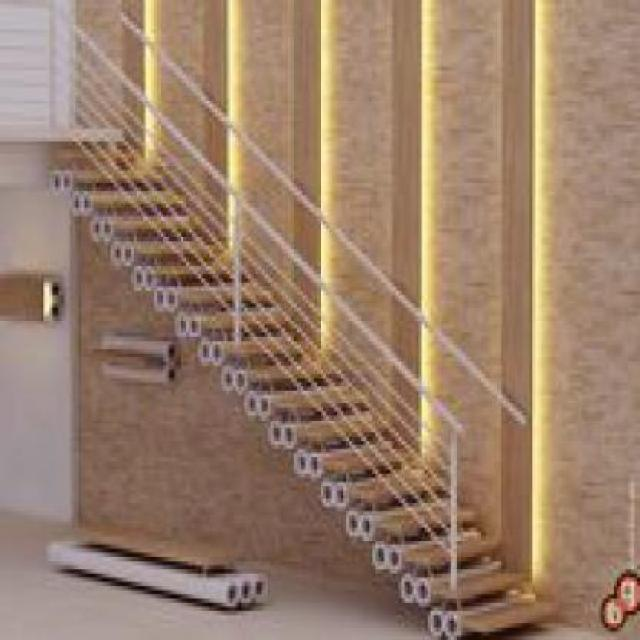stair: (54, 77, 572, 638)
